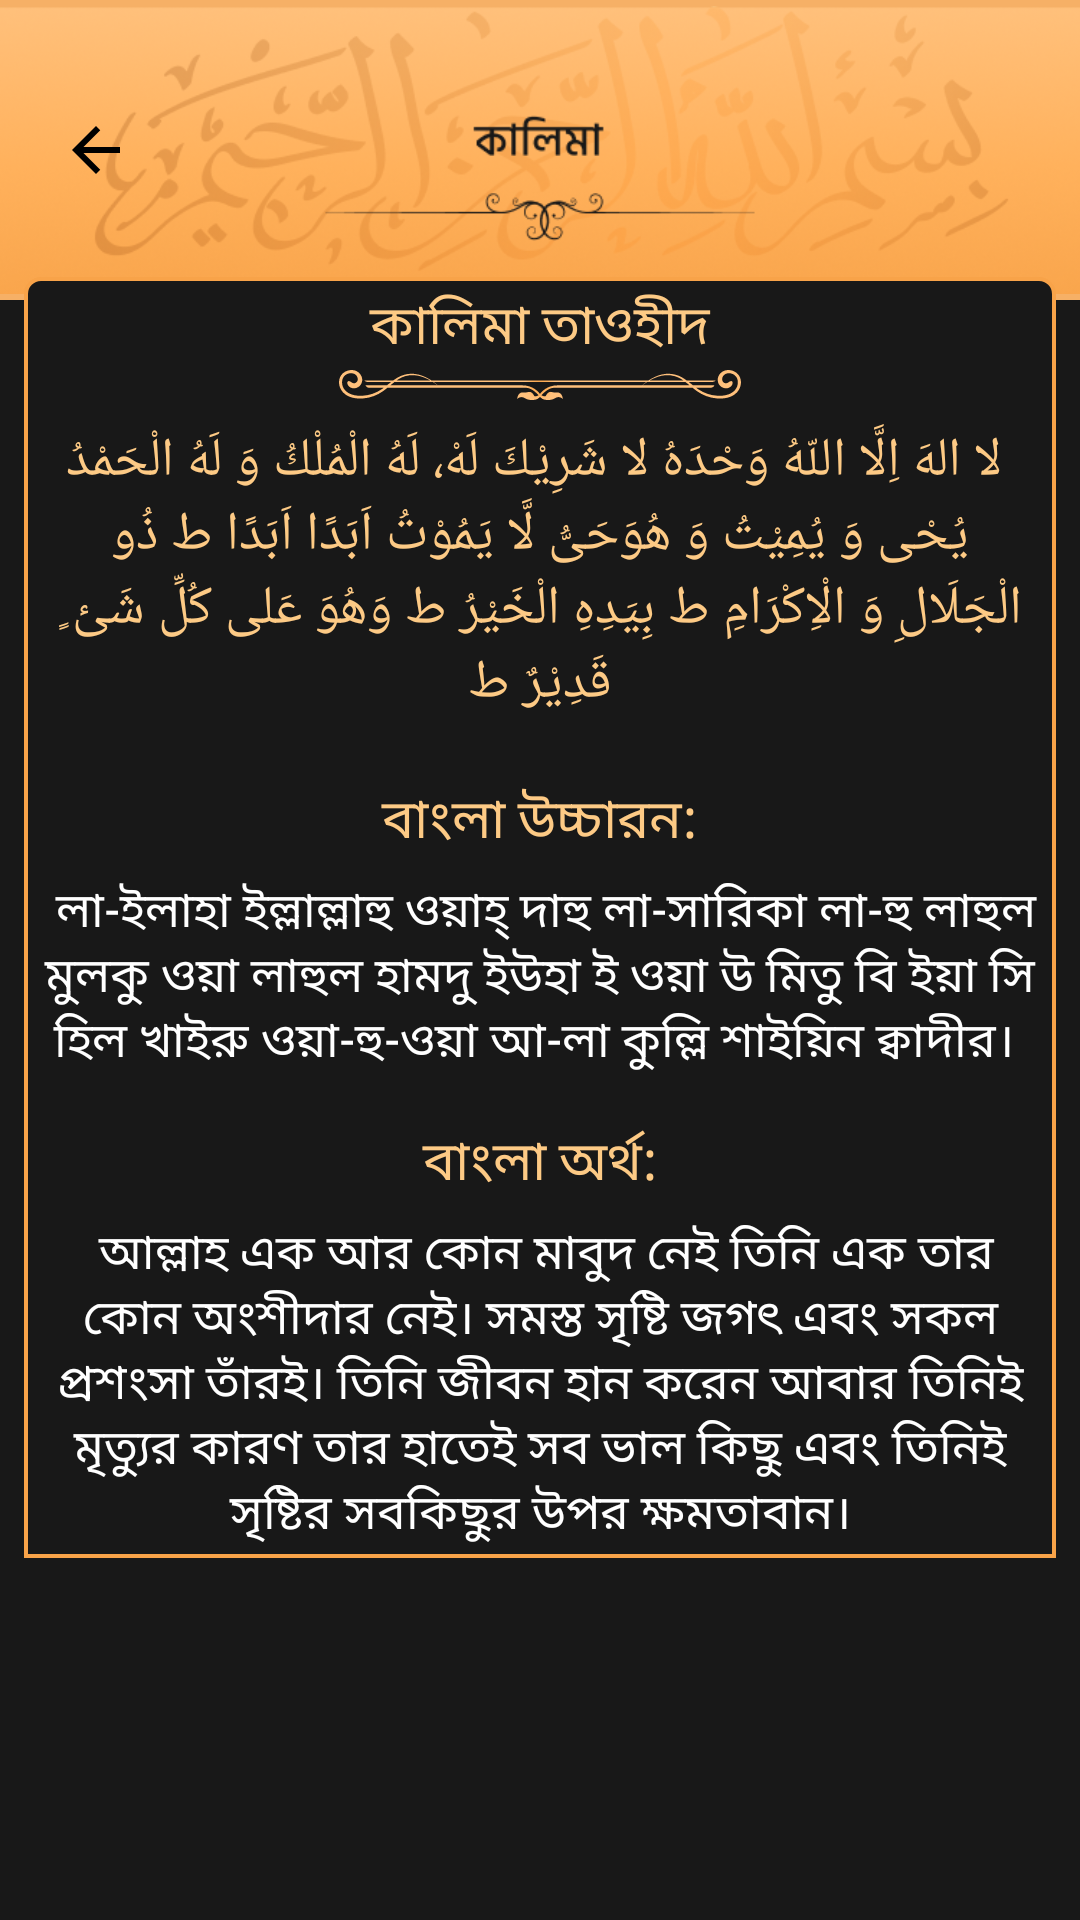

Icons on this 1080*1920 Android screen, each with its box as (x1, y1, x2, y2):
back: (72, 115, 132, 186)
